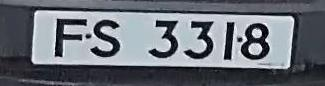1: (214, 18, 240, 63)
3: (146, 15, 182, 62), (182, 17, 218, 62)
8: (238, 19, 273, 64)
F: (49, 13, 93, 65)
S: (88, 12, 131, 63)
